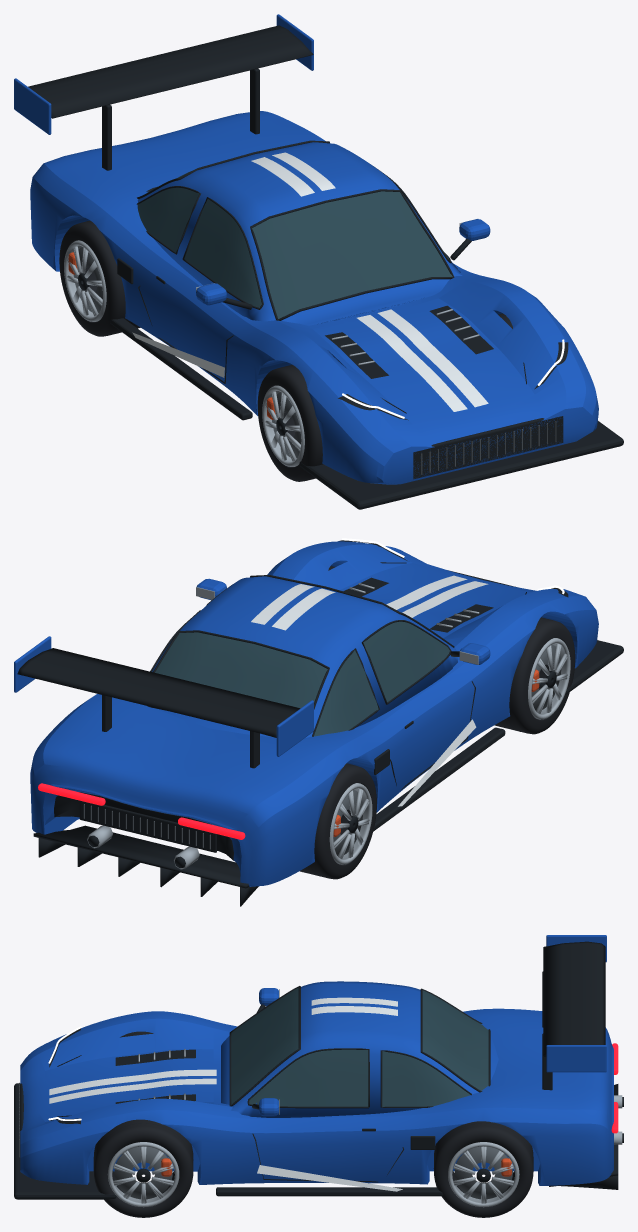
3 renders of one model, top to bottom at view 1: azimuth 30°, elevation 25°; view 2: azimuth 150°, elevation 25°; view 3: azimuth 270°, elevation 25°, orthographic. The views are drawn at different scales.
Parts seen in each view (by area): view 1: GT_ROOT_GT_Paint_LOD0, GT_ROOT_GT_Carbon_LOD0, GT_ROOT_GT_Glass_LOD0, GT_ROOT_GT_Ice_LOD0, SPIN_RR_GT_Rubber_LOD0, SPIN_FR_GT_Rubber_LOD0, SPIN_RR_GT_Alloy_LOD0, SPIN_FR_GT_Alloy_LOD0, GT_ROOT_GT_Rotor_LOD0; view 2: GT_ROOT_GT_Paint_LOD0, GT_ROOT_GT_Carbon_LOD0, GT_ROOT_GT_Glass_LOD0, GT_ROOT_GT_Ice_LOD0, SPIN_FR_GT_Rubber_LOD0, SPIN_RR_GT_Rubber_LOD0, SPIN_RR_GT_Alloy_LOD0, SPIN_FR_GT_Alloy_LOD0, GT_ROOT_GT_Alloy_LOD0, BRAKE_LIGHT_L, BRAKE_LIGHT_R, GT_ROOT_GT_Rotor_LOD0; view 3: GT_ROOT_GT_Paint_LOD0, GT_ROOT_GT_Glass_LOD0, GT_ROOT_GT_Carbon_LOD0, SPIN_FL_GT_Rubber_LOD0, SPIN_RL_GT_Rubber_LOD0, GT_ROOT_GT_Ice_LOD0, SPIN_FL_GT_Alloy_LOD0, SPIN_RL_GT_Alloy_LOD0, WHEEL_RL_GT_Rotor_LOD0, WHEEL_FL_GT_Rotor_LOD0.
Boxes of the visible parts, bbox=[...] form: GT_ROOT_GT_Paint_LOD0: bbox=[14, 14, 598, 484]; GT_ROOT_GT_Carbon_LOD0: bbox=[28, 25, 623, 509]; GT_ROOT_GT_Glass_LOD0: bbox=[137, 170, 452, 318]; GT_ROOT_GT_Ice_LOD0: bbox=[132, 152, 488, 411]; SPIN_RR_GT_Rubber_LOD0: bbox=[59, 220, 140, 336]; SPIN_FR_GT_Rubber_LOD0: bbox=[257, 364, 322, 481]; SPIN_RR_GT_Alloy_LOD0: bbox=[64, 240, 106, 321]; SPIN_FR_GT_Alloy_LOD0: bbox=[262, 385, 304, 466]; GT_ROOT_GT_Rotor_LOD0: bbox=[421, 421, 556, 474]; GT_ROOT_GT_Paint_LOD0: bbox=[14, 541, 598, 886]; GT_ROOT_GT_Carbon_LOD0: bbox=[17, 540, 623, 906]; GT_ROOT_GT_Glass_LOD0: bbox=[155, 621, 449, 736]; GT_ROOT_GT_Ice_LOD0: bbox=[251, 575, 488, 806]; SPIN_FR_GT_Rubber_LOD0: bbox=[494, 617, 575, 734]; SPIN_RR_GT_Rubber_LOD0: bbox=[300, 763, 376, 879]; SPIN_RR_GT_Alloy_LOD0: bbox=[329, 783, 372, 864]; SPIN_FR_GT_Alloy_LOD0: bbox=[528, 638, 570, 719]; GT_ROOT_GT_Alloy_LOD0: bbox=[87, 583, 479, 869]; BRAKE_LIGHT_L: bbox=[38, 783, 105, 805]; BRAKE_LIGHT_R: bbox=[178, 817, 245, 839]; GT_ROOT_GT_Rotor_LOD0: bbox=[83, 804, 210, 849]; GT_ROOT_GT_Paint_LOD0: bbox=[20, 935, 613, 1185]; GT_ROOT_GT_Glass_LOD0: bbox=[231, 987, 488, 1106]; GT_ROOT_GT_Carbon_LOD0: bbox=[14, 941, 623, 1199]; SPIN_FL_GT_Rubber_LOD0: bbox=[93, 1119, 193, 1217]; SPIN_RL_GT_Rubber_LOD0: bbox=[434, 1121, 533, 1217]; GT_ROOT_GT_Ice_LOD0: bbox=[49, 997, 402, 1191]; SPIN_FL_GT_Alloy_LOD0: bbox=[107, 1142, 179, 1207]; SPIN_RL_GT_Alloy_LOD0: bbox=[448, 1142, 519, 1207]; WHEEL_RL_GT_Rotor_LOD0: bbox=[454, 1146, 512, 1199]; WHEEL_FL_GT_Rotor_LOD0: bbox=[114, 1146, 172, 1199].
Size of the model in its own units: 2.05 by 1.39 by 4.41.
